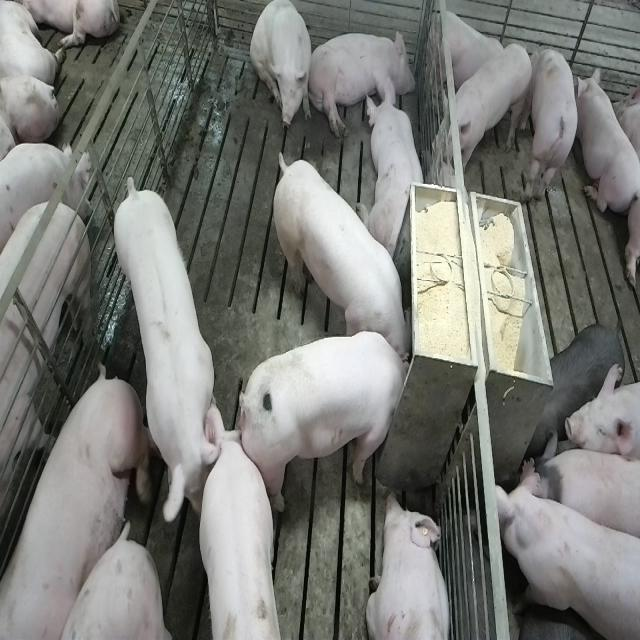Feeding: (244, 329, 419, 512), (269, 144, 410, 360)
Lateral_lying: (4, 366, 153, 640), (307, 26, 416, 140)
Sitting: (250, 2, 313, 138)
Standing: (0, 194, 94, 640), (113, 179, 222, 530), (494, 459, 638, 640), (195, 423, 286, 640), (526, 318, 626, 456), (531, 433, 637, 549), (439, 47, 534, 172), (524, 42, 581, 210)
Sternal_lying: (365, 490, 452, 640), (366, 77, 430, 257), (578, 62, 638, 216), (426, 5, 511, 94)
